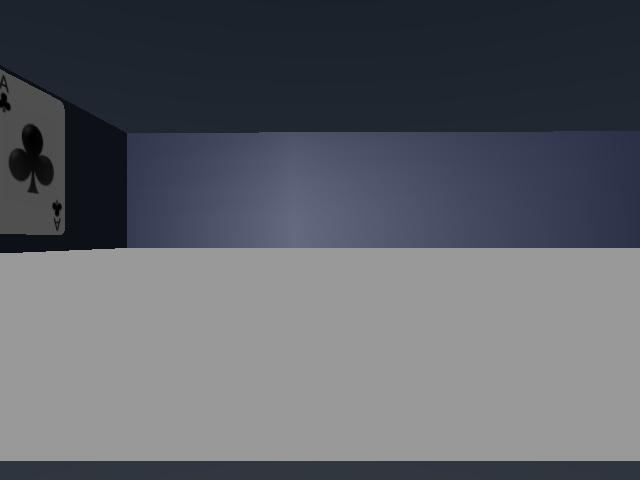club: (0, 70, 64, 234)
